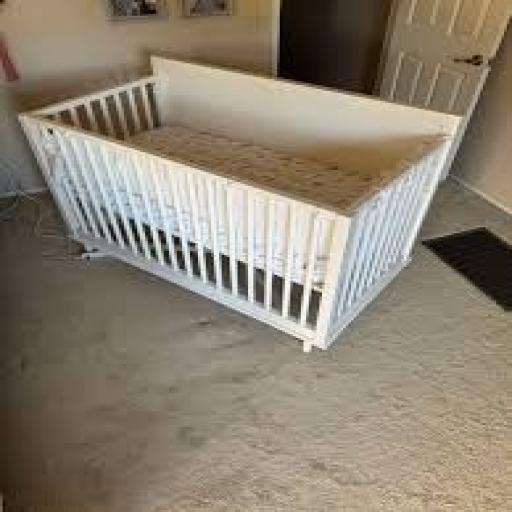crib: (22, 58, 459, 349)
